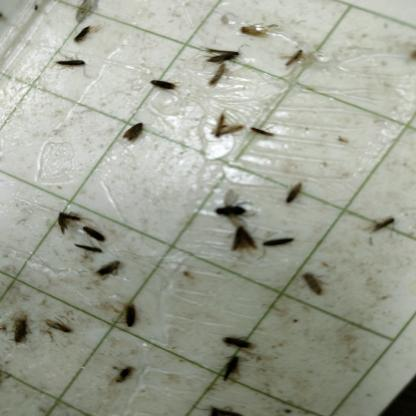prays_oleae: (362, 200, 395, 252), (223, 219, 258, 268), (211, 105, 241, 158), (117, 115, 151, 160), (259, 226, 299, 261), (42, 301, 70, 343), (221, 328, 259, 357), (107, 358, 134, 397), (50, 205, 79, 240), (240, 14, 276, 42), (298, 268, 325, 302), (206, 37, 241, 63), (251, 114, 276, 148), (10, 312, 31, 352), (120, 304, 144, 336), (54, 52, 88, 74), (281, 42, 303, 74), (203, 61, 229, 88), (281, 177, 303, 205), (92, 260, 120, 281), (82, 221, 107, 242), (68, 22, 92, 43), (148, 75, 175, 93), (72, 244, 102, 257)
